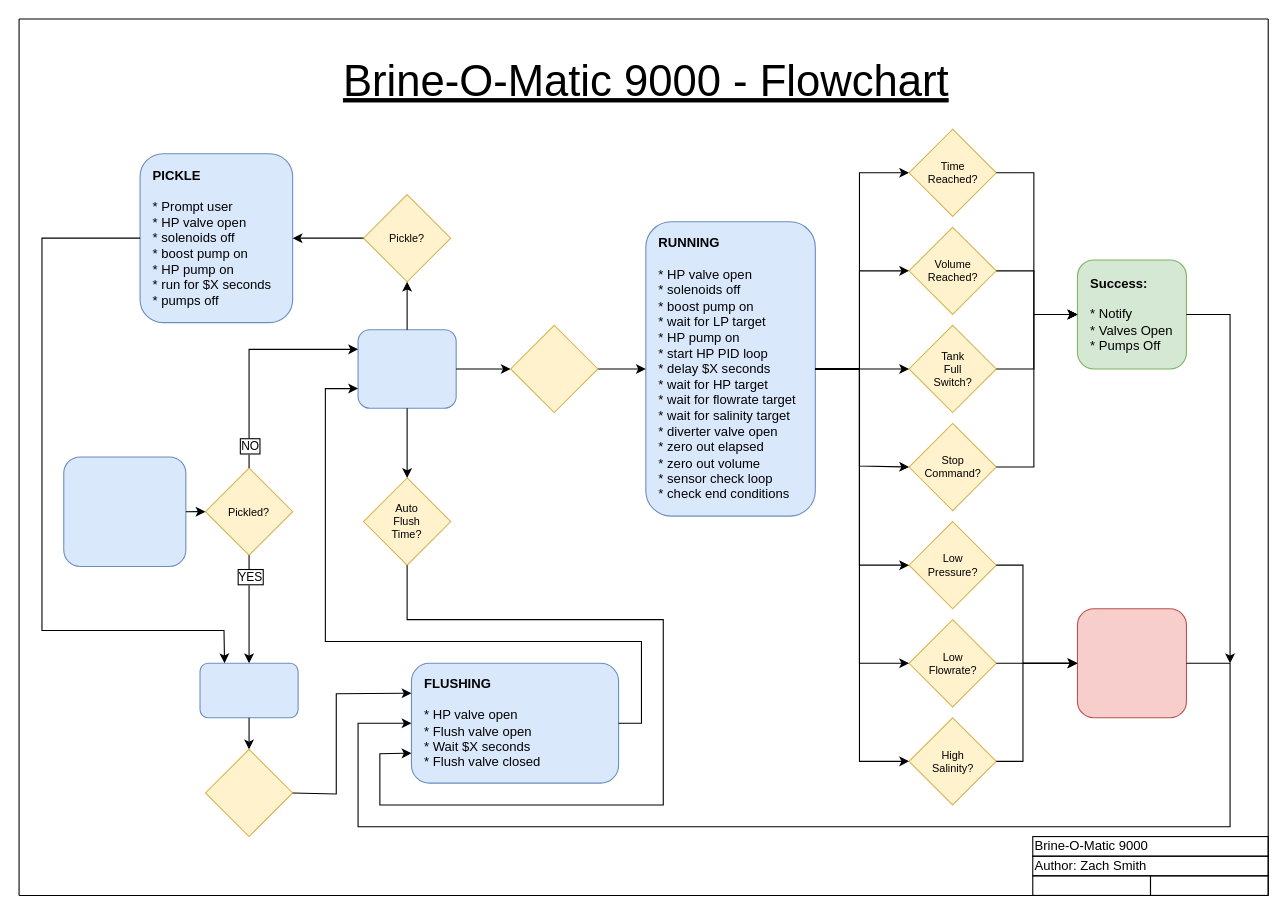
The diagram is 1288 pixels wide and 916 high, and some of its shapes have lost their labels. The shapes that lost their labels are listed below. From the top down, each one's centre as x and y in pixels, then its label:
At pixel 406 368: "IDLE * wait loop".
At pixel 554 368: "Start? (Time, Volume, or Auto)".
At pixel 124 511: "STARTUP * motors off * solenoids off * open HP valve * diverter off".
At pixel 1131 663: "Error: * Notify * Valves Open * Pumps Off".
At pixel 248 690: "PICKLED * wait loop".
At pixel 248 792: "Flush?".
At pixel 1091 885: "04 Aug 2024".
At pixel 1208 885: "Revision A".
